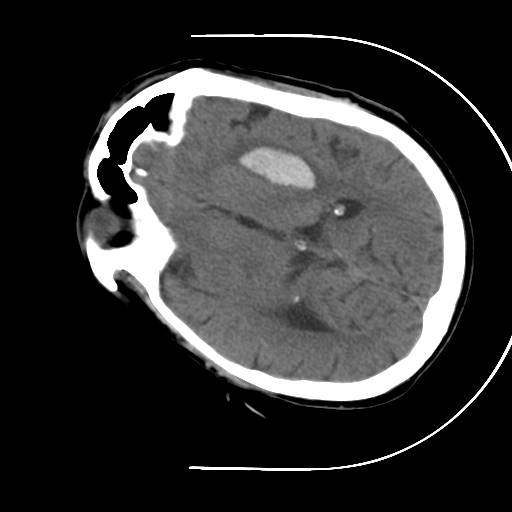a: (214, 128, 339, 208)
